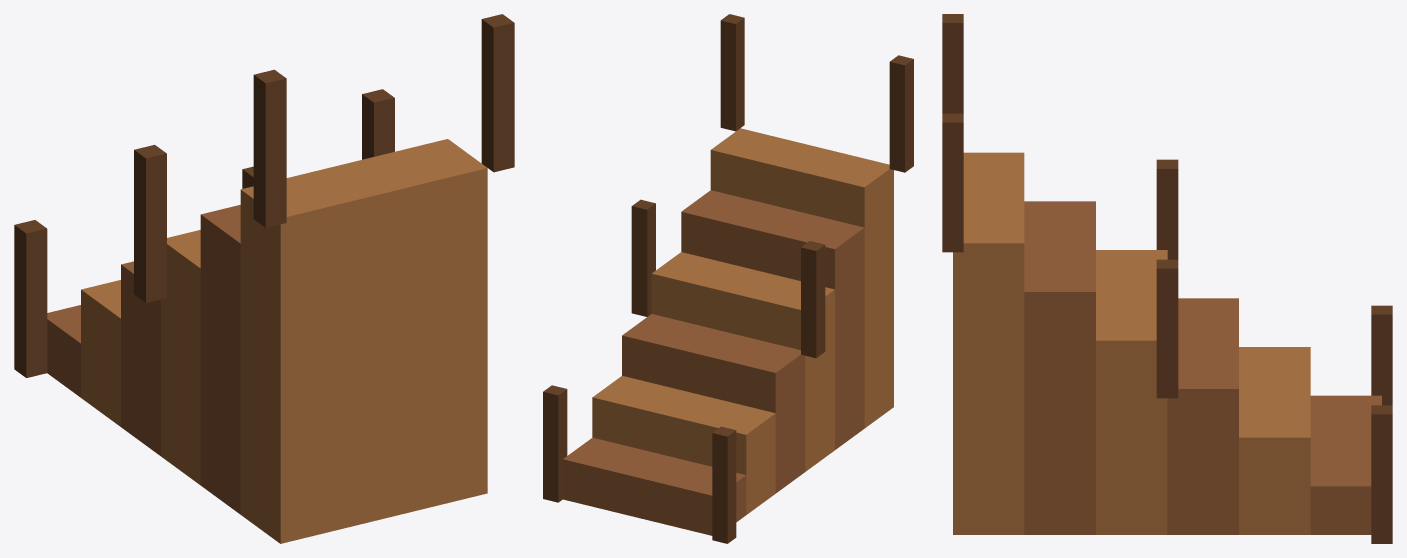
Rendered from WoodenStairs.glb.
The picture shows the model from 3 angles, left to right: view 1: azimuth 30°, elevation 25°; view 2: azimuth 150°, elevation 25°; view 3: azimuth 270°, elevation 25°; orthographic projection. The views are drawn at different scales.
Visible parts, largest first — view 1: WoodenStairs; view 2: WoodenStairs; view 3: WoodenStairs.
Boxes of the visible parts, left/top/right/bottom form: WoodenStairs: left=14, top=14, right=514, bottom=543; WoodenStairs: left=543, top=14, right=913, bottom=543; WoodenStairs: left=942, top=14, right=1392, bottom=543.
Size of the model in its own units: 7.2 by 13 by 12.6.
1 material, 1 textured.
